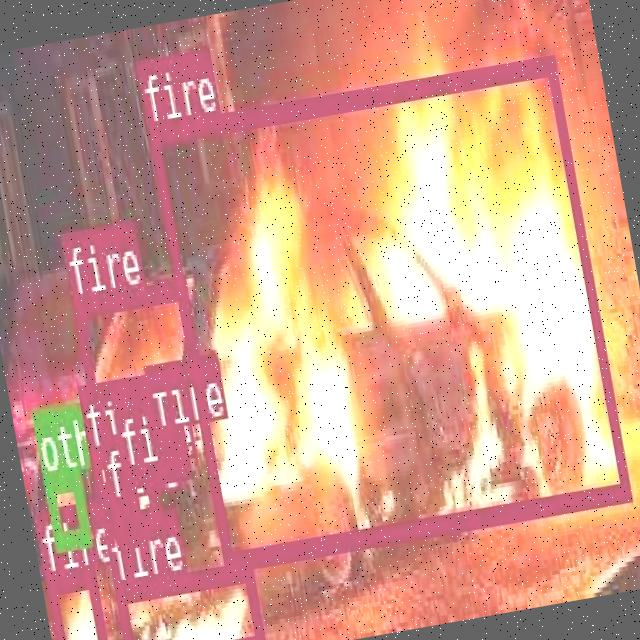fire: (146, 53, 628, 566), (70, 278, 200, 400), (112, 557, 263, 640), (43, 567, 108, 640), (122, 462, 160, 524), (153, 423, 190, 477), (87, 446, 115, 496), (108, 496, 135, 546)
